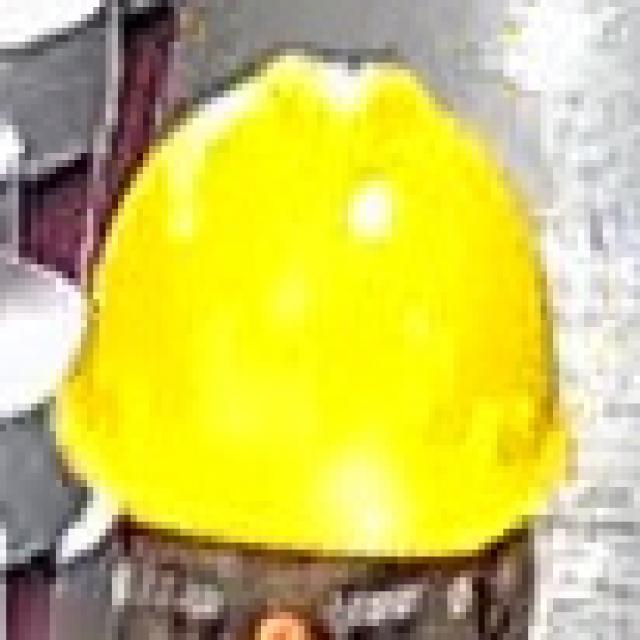yellow helmet: (54, 44, 584, 566)
